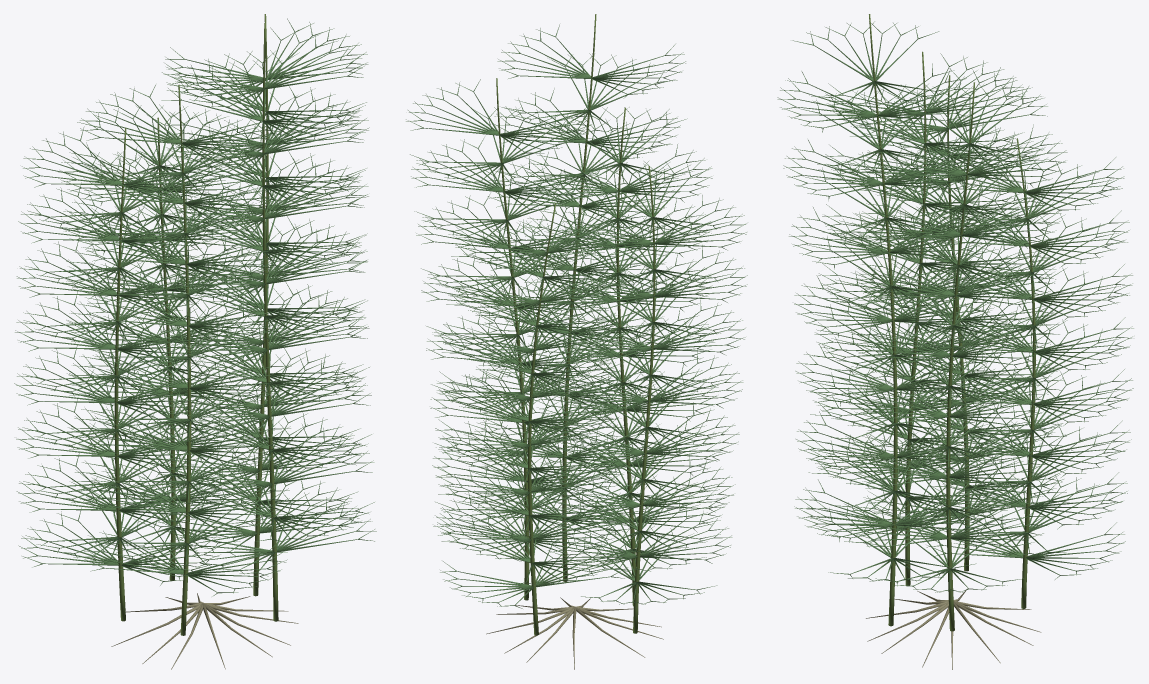
The model's file is cabomba-desktop.glb.
3 views of the same model, side by side, from view 1: azimuth 30°, elevation 25°; view 2: azimuth 150°, elevation 25°; view 3: azimuth 270°, elevation 25° (orthographic). The views are drawn at different scales.
Parts seen in each view (by area): view 1: dissected-leaf-ray, pinnule, branching-stem, anchoring-root; view 2: dissected-leaf-ray, pinnule, branching-stem, anchoring-root; view 3: dissected-leaf-ray, pinnule, branching-stem, anchoring-root.
Part boxes in pixels (<box>): dissected-leaf-ray: <box>33,32,357,592</box>; pinnule: <box>14,18,376,596</box>; branching-stem: <box>114,14,278,635</box>; anchoring-root: <box>111,593,298,669</box>; dissected-leaf-ray: <box>423,37,730,604</box>; pinnule: <box>406,24,747,608</box>; branching-stem: <box>496,14,655,635</box>; anchoring-root: <box>486,597,663,669</box>; dissected-leaf-ray: <box>796,34,1115,588</box>; pinnule: <box>777,21,1133,592</box>; branching-stem: <box>869,14,1035,631</box>; anchoring-root: <box>866,588,1041,669</box>.
Bounding box in the file's own units: 0.5095 × 0.9243 × 0.4802.
